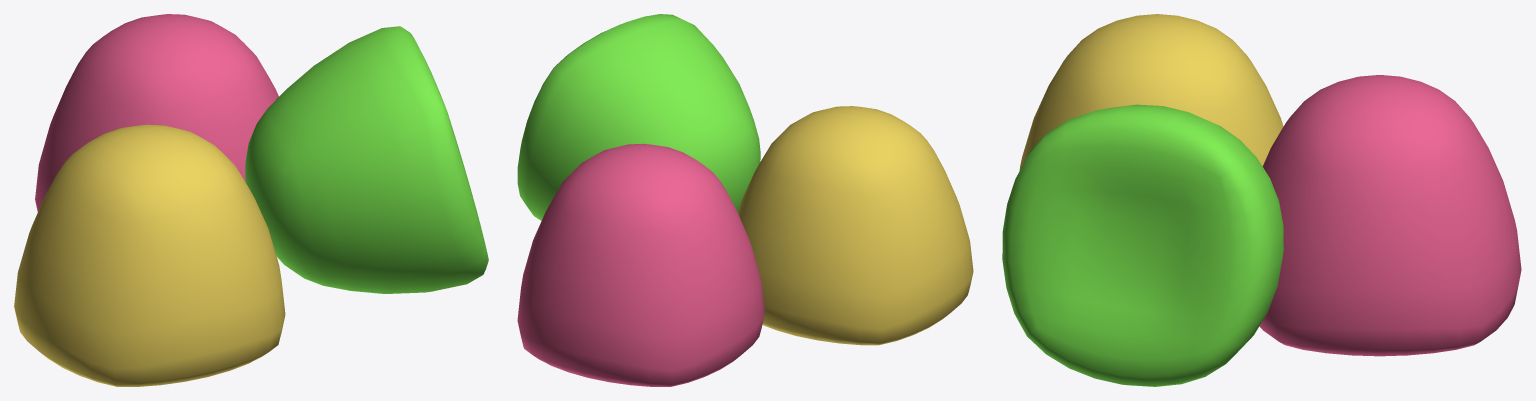
The model's file is gumdrop.fbx.
3 views of the same model, side by side, from view 1: azimuth 30°, elevation 25°; view 2: azimuth 150°, elevation 25°; view 3: azimuth 270°, elevation 25° (orthographic). The views are drawn at different scales.
Parts seen in each view (by area): view 1: gumdrops; view 2: gumdrops; view 3: gumdrops.
Part boxes in pixels (<box>): gumdrops: <box>14,14,488,386</box>; gumdrops: <box>517,14,973,386</box>; gumdrops: <box>1002,14,1521,386</box>.
Size of the model in its own units: 0.6977 by 0.6609 by 0.3591.
